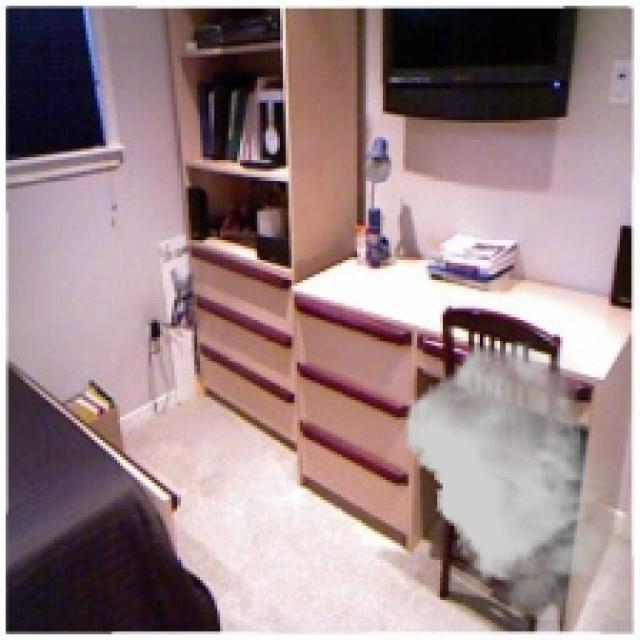smoke: (406, 340, 617, 620)
